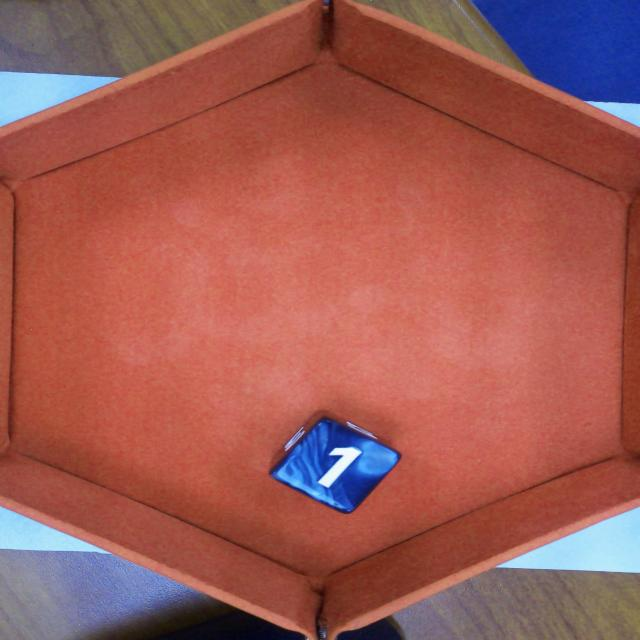dice: (261, 414, 407, 520)
